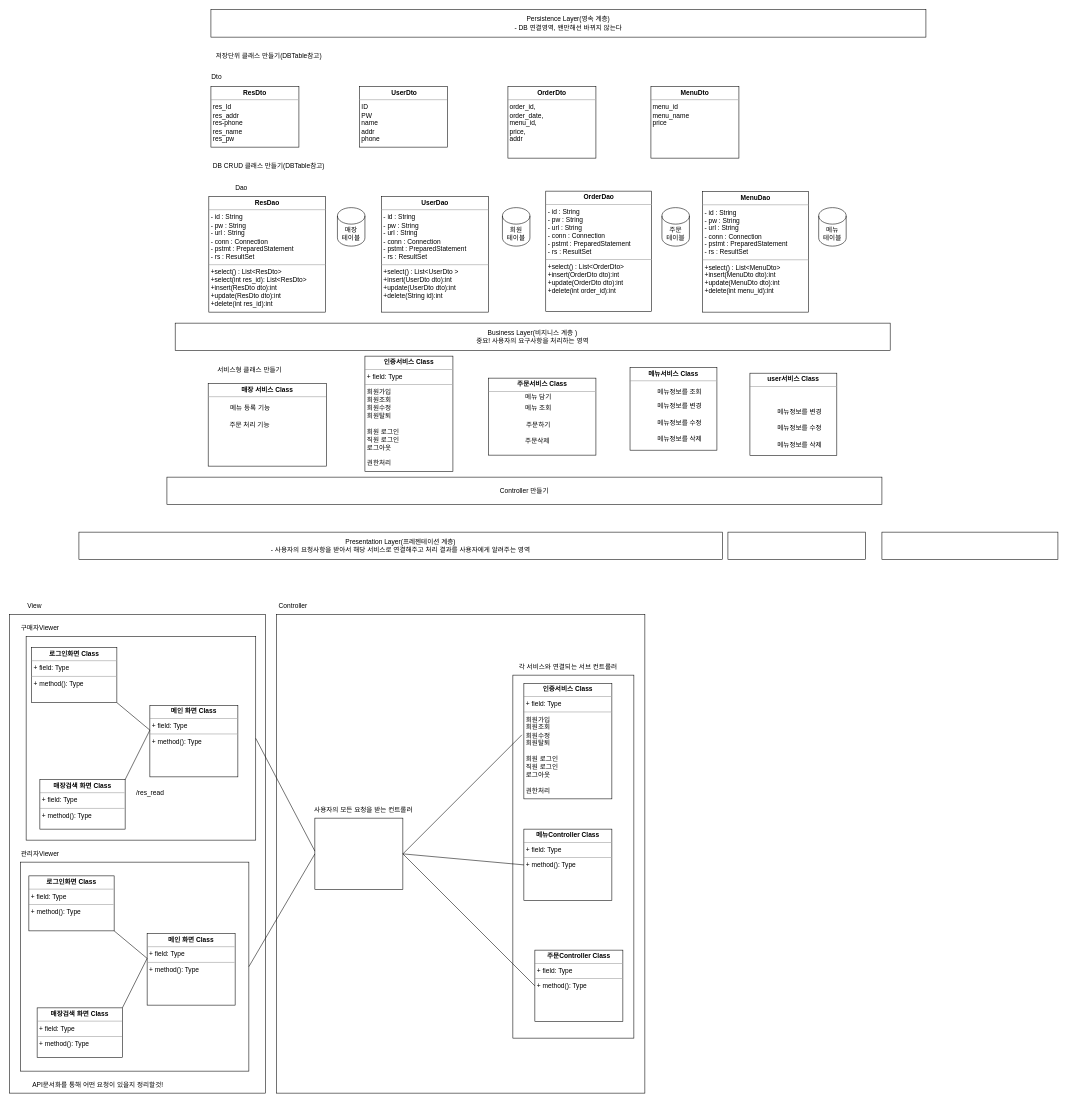
Image size: 1068x1103. Some labels were removed from this diagram. The shapes that lost their labels are listed below. From the top down, each one's centre as x and y in pixels, then its label:
point 796,546: Business Layer
point 969,546: Persistance Layer
point 358,854: FrontController Class + field: Type + method(): Type
